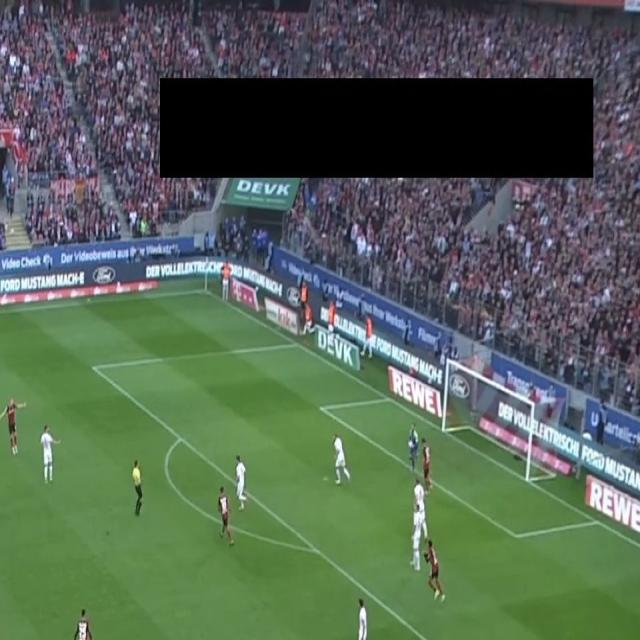ball: (408, 440, 414, 448)
